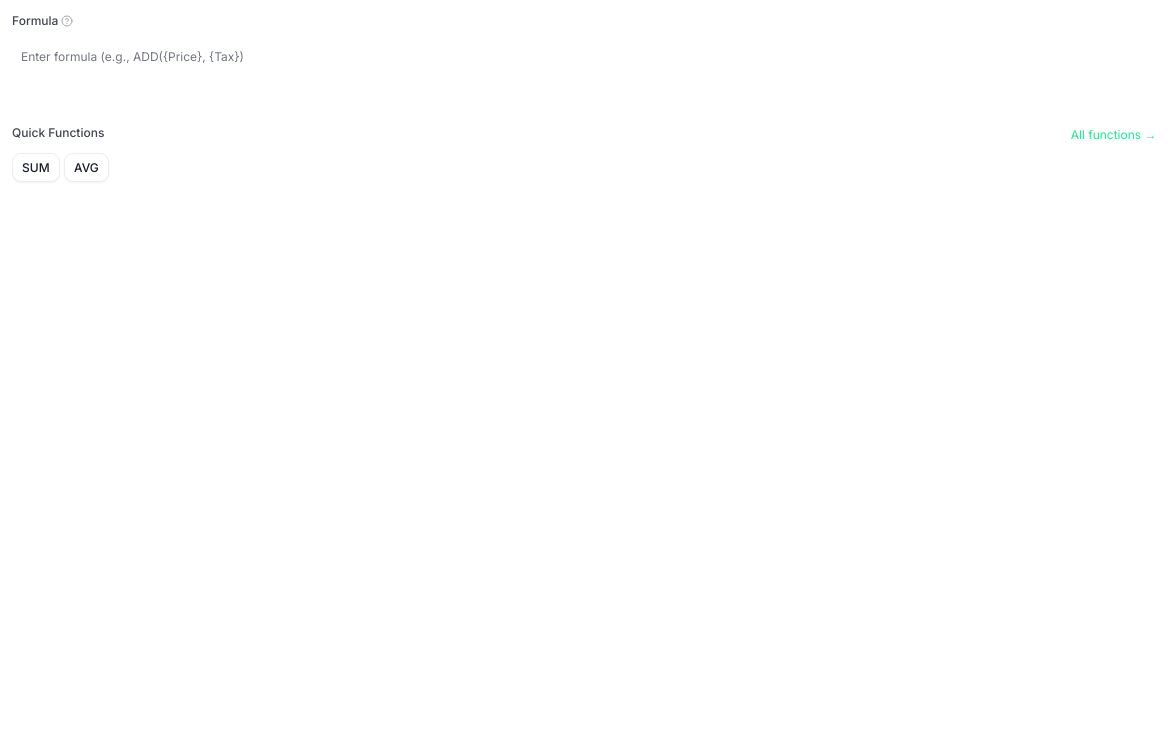
it: Formula › opens all-functions modal and searches
The image size is (1176, 732).
Click the button with aria-label "view all functions".
click(1114, 135)  # box [1063, 123, 1164, 147]
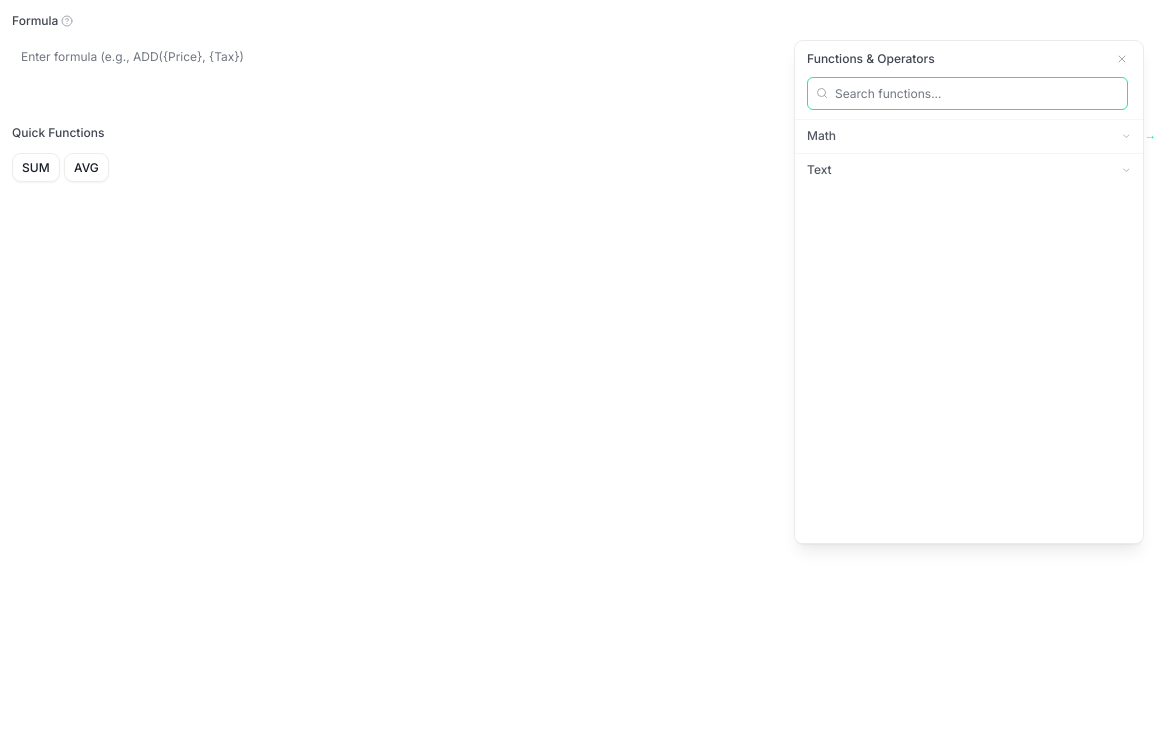
expect the heading "Functions & Operators" is shown: met, box [807, 50, 935, 68]
Type "xyz-not-found" into the field with placeholder "Search functions...".
click(967, 93); type("xyz-not-found")  # box [807, 76, 1128, 110]
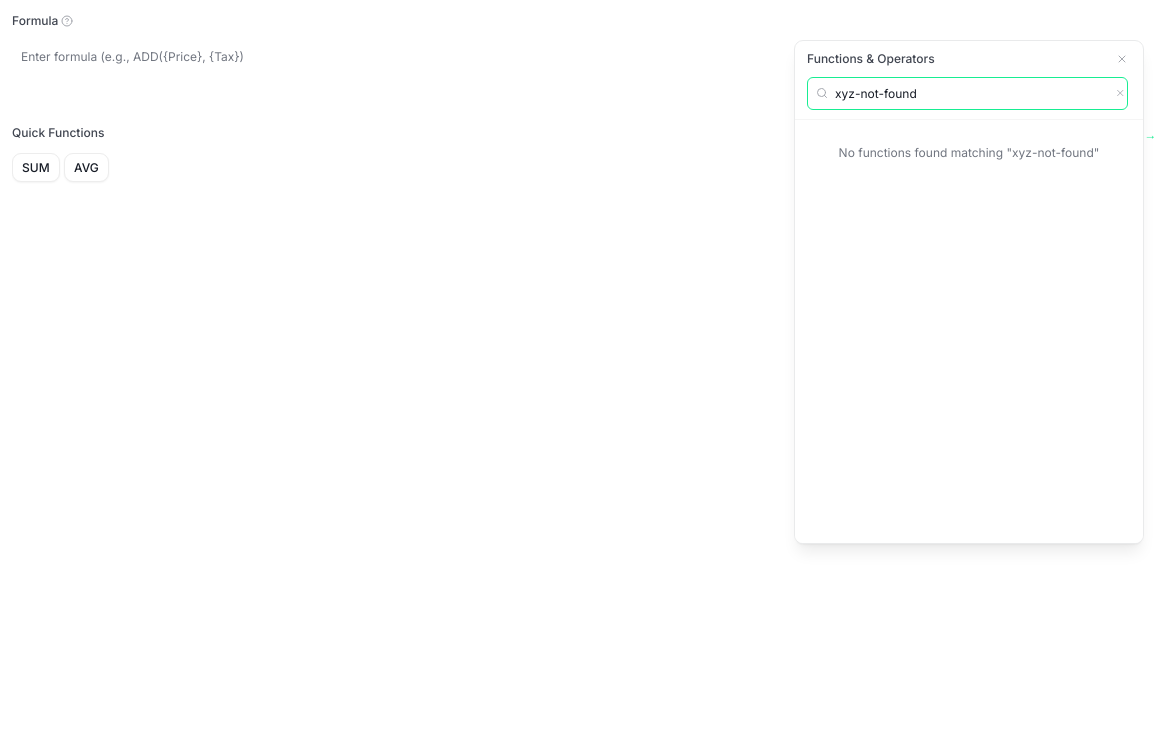
expect the text "No functions found matching \"xyz-not-found\"" is shown: met, box [839, 144, 1099, 160]
Click the button named "Close".
click(1122, 58)  # box [1113, 50, 1131, 68]
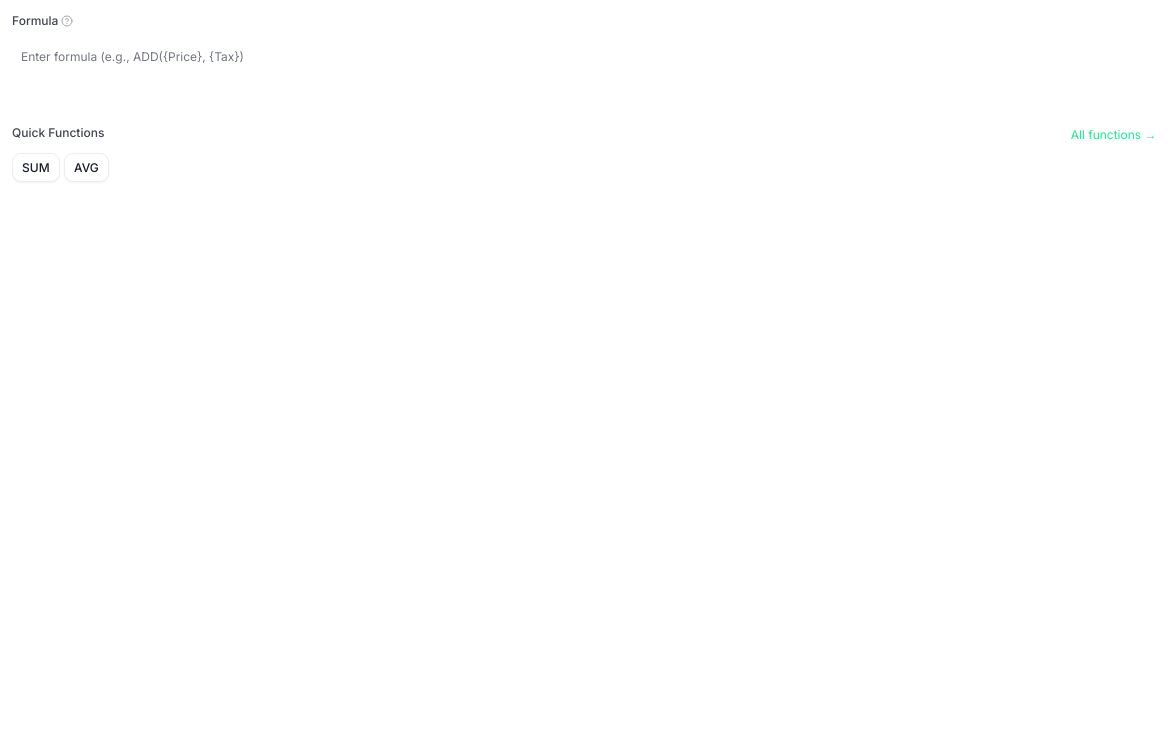
expect the heading "Functions & Operators" is gone: met
